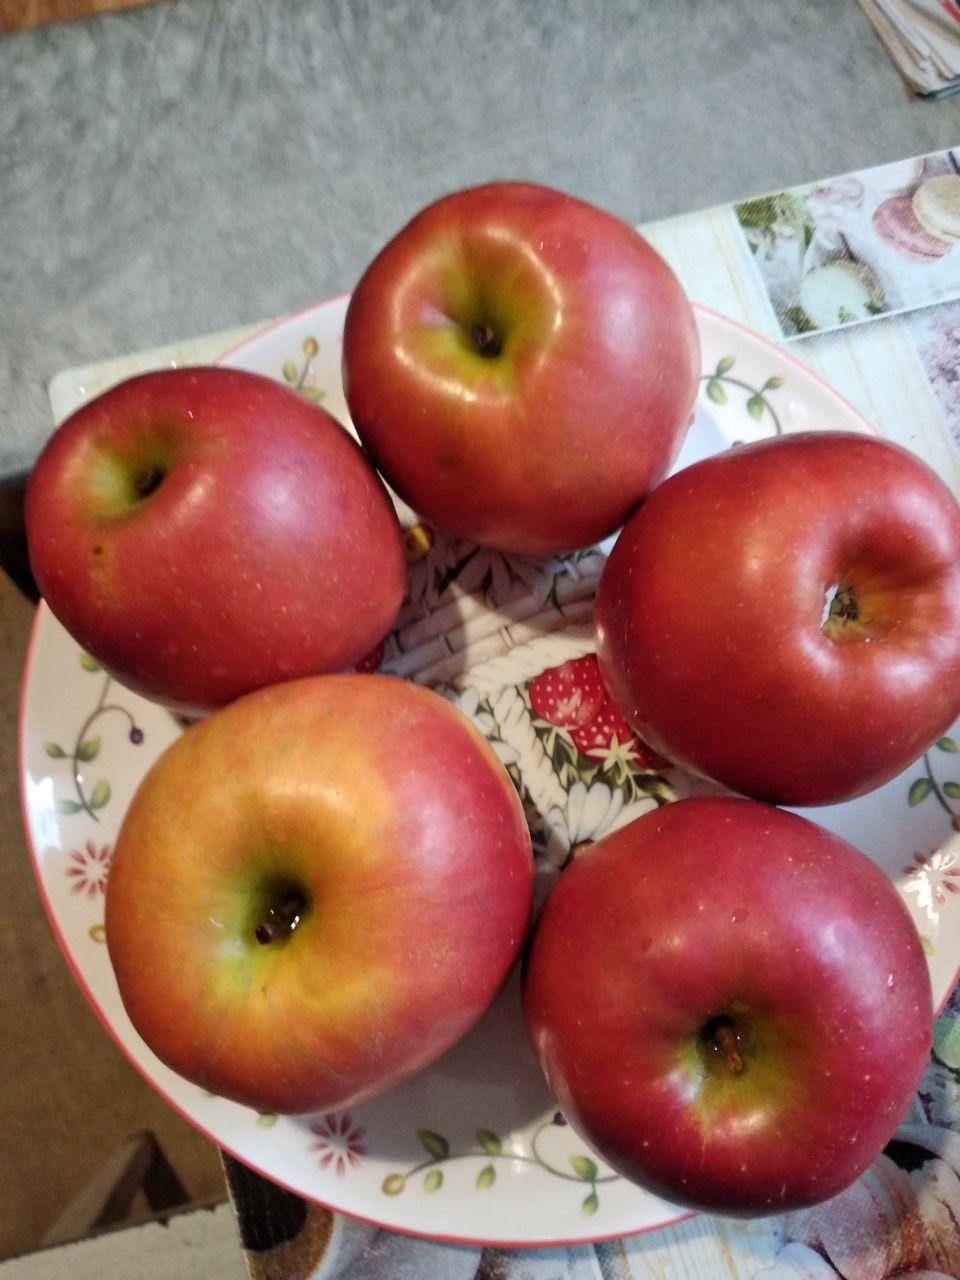Apple: (106, 673, 532, 1116), (533, 795, 934, 1223), (342, 177, 707, 561), (603, 430, 960, 805), (23, 366, 408, 694)
